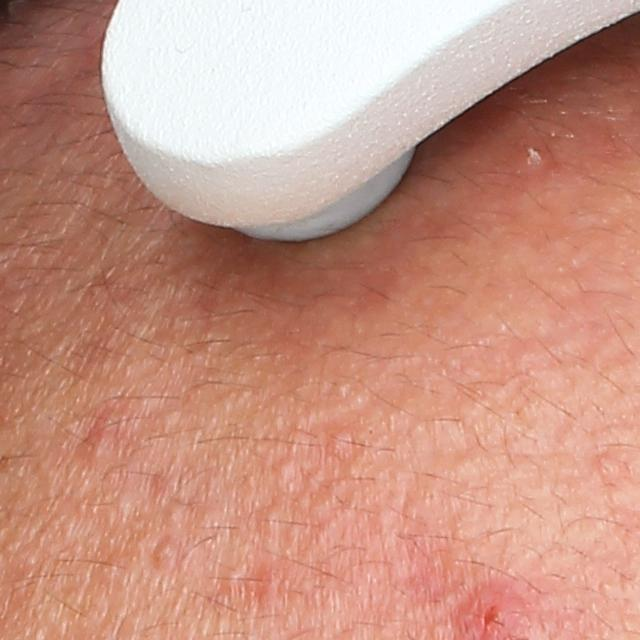comedo: (256, 501, 290, 536), (596, 453, 630, 484), (150, 535, 180, 570), (270, 452, 301, 485), (109, 492, 137, 524)
papule: (82, 421, 117, 457)
